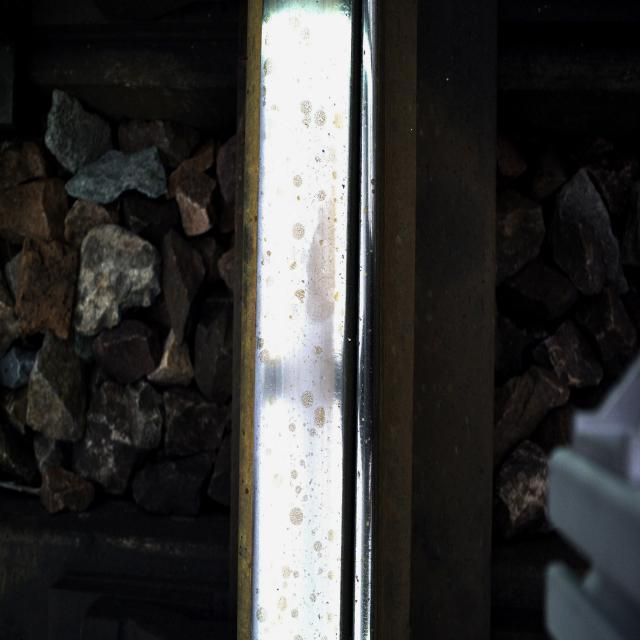scar: (262, 55, 336, 581)
